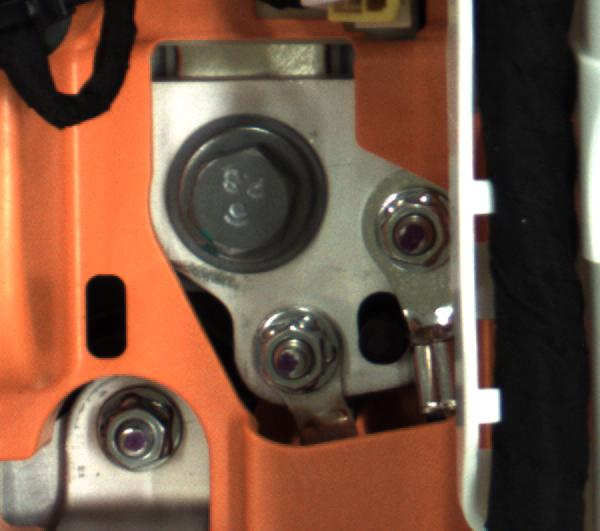nut_b: (168, 135, 319, 267)
screw_s: (88, 387, 181, 484), (244, 317, 346, 402), (369, 191, 448, 269)
